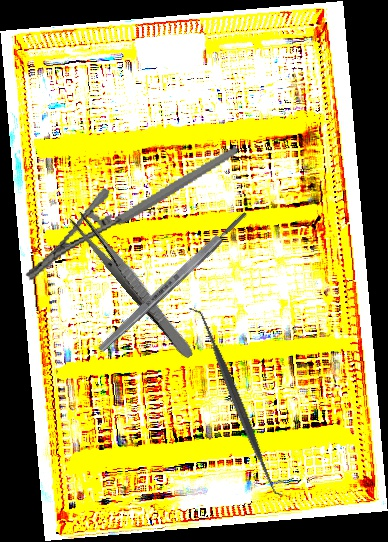Dressing Forceps: (66, 207, 200, 362)
Needle Holder: (7, 145, 256, 284)
Scalpel Handle: (95, 208, 251, 355)
Spatula Surgical: (186, 300, 287, 503)
